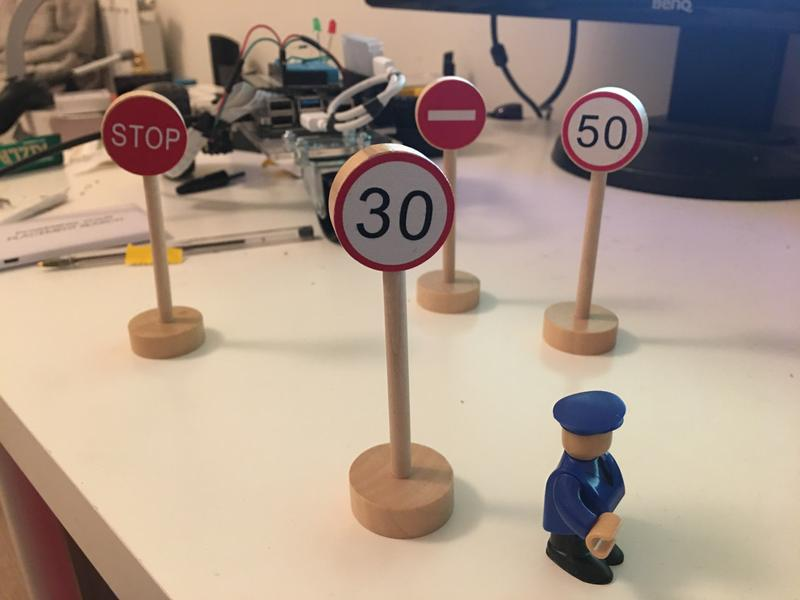Traffic_Sign_30: (334, 152, 449, 273)
Traffic_Sign_50: (561, 91, 645, 174)
Traffic_Sign_No_Entry: (415, 80, 486, 151)
Traffic_Sign_Stop: (101, 95, 188, 174)
person: (538, 390, 640, 587)
